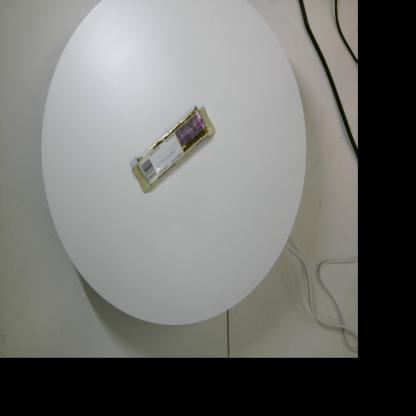Chocolate: (130, 104, 216, 194)
